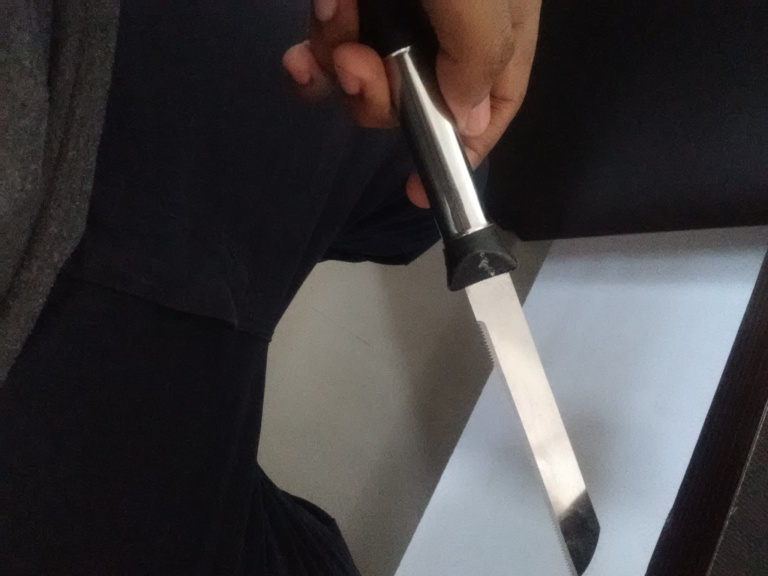knife: (387, 45, 604, 572)
